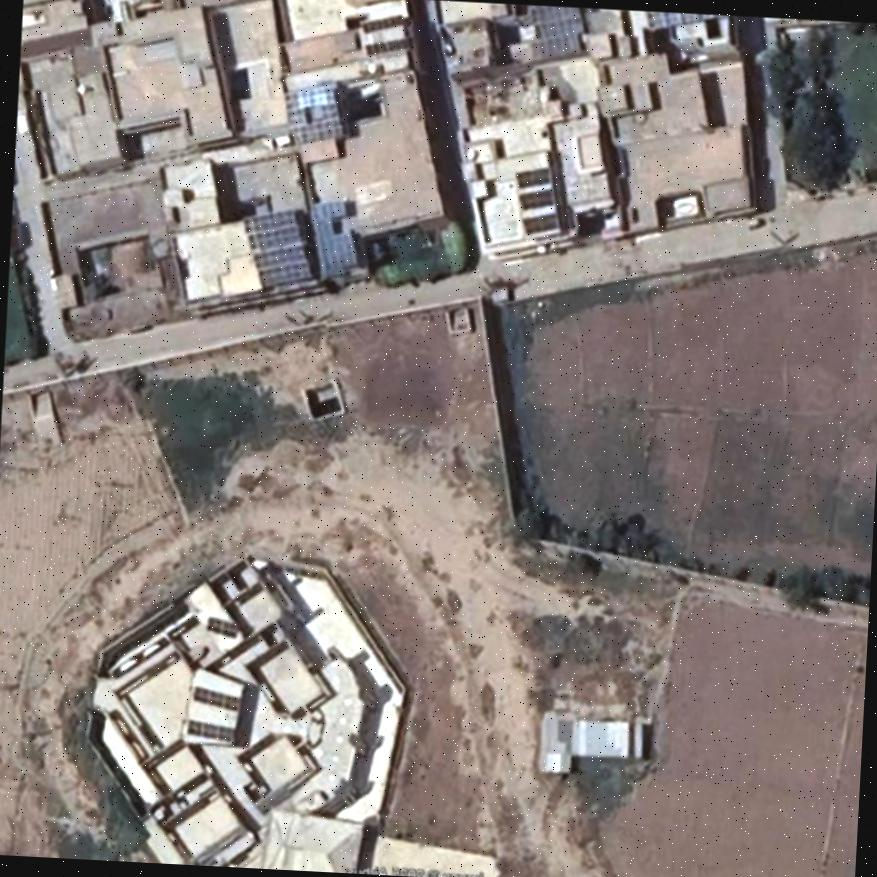Solarpanel: (244, 208, 311, 286), (309, 199, 358, 278), (282, 84, 345, 144), (528, 4, 590, 58), (645, 10, 718, 28)
